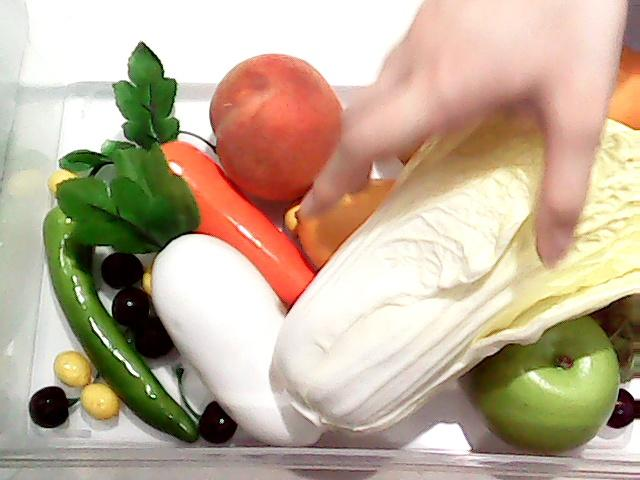apple: (460, 309, 620, 455)
carrot: (57, 36, 320, 310)
lemon: (567, 34, 640, 135)
mango: (295, 178, 401, 270)
napa cabbage: (228, 57, 640, 436)
peach: (210, 54, 346, 202)
pepper: (20, 192, 202, 444)
potato: (396, 133, 432, 169)
radish: (56, 142, 326, 448)
